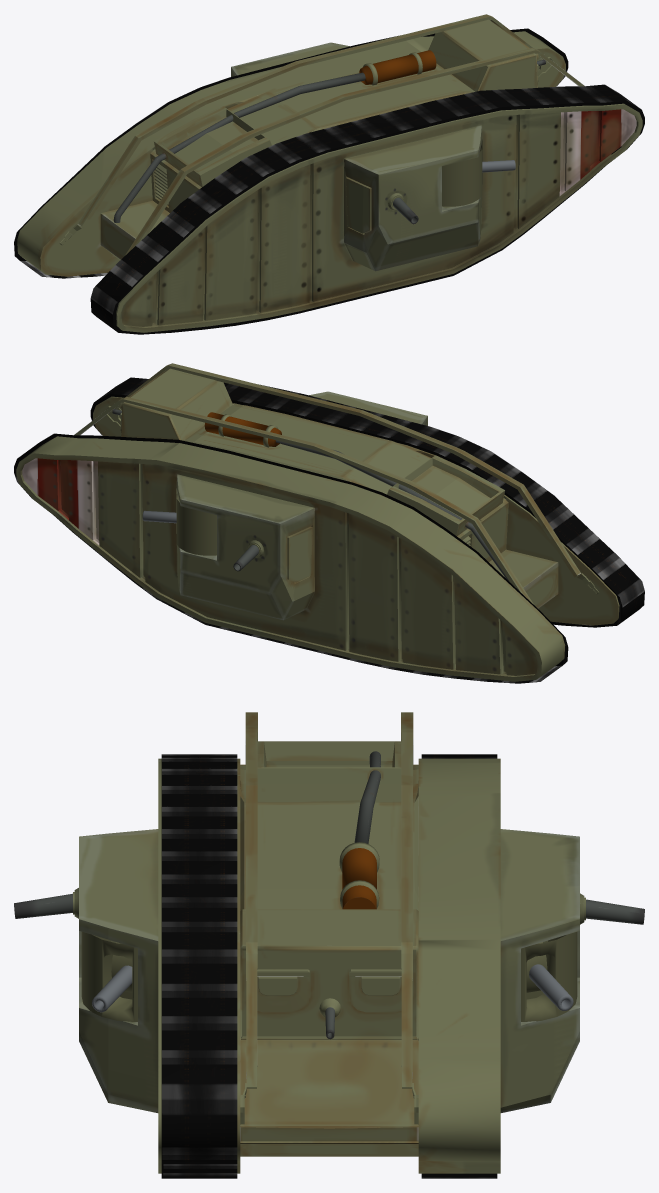
The model's file is mark4.glb.
The picture shows the model from 3 angles, top to bottom: view 1: azimuth 30°, elevation 25°; view 2: azimuth 150°, elevation 25°; view 3: azimuth 270°, elevation 25°; orthographic projection. The views are drawn at different scales.
Parts seen in each view (by area): view 1: Mark_IV_Canon; view 2: Mark_IV_Canon; view 3: Mark_IV_Canon.
Boxes of the visible parts, x1=… form: Mark_IV_Canon: x1=14, y1=14, x2=644, y2=334; Mark_IV_Canon: x1=14, y1=363, x2=644, y2=683; Mark_IV_Canon: x1=14, y1=712, x2=644, y2=1178.
Bounding box in the file's own units: 21.12 × 6.88 × 12.77.
Materials: 7 (3 with a texture image).
